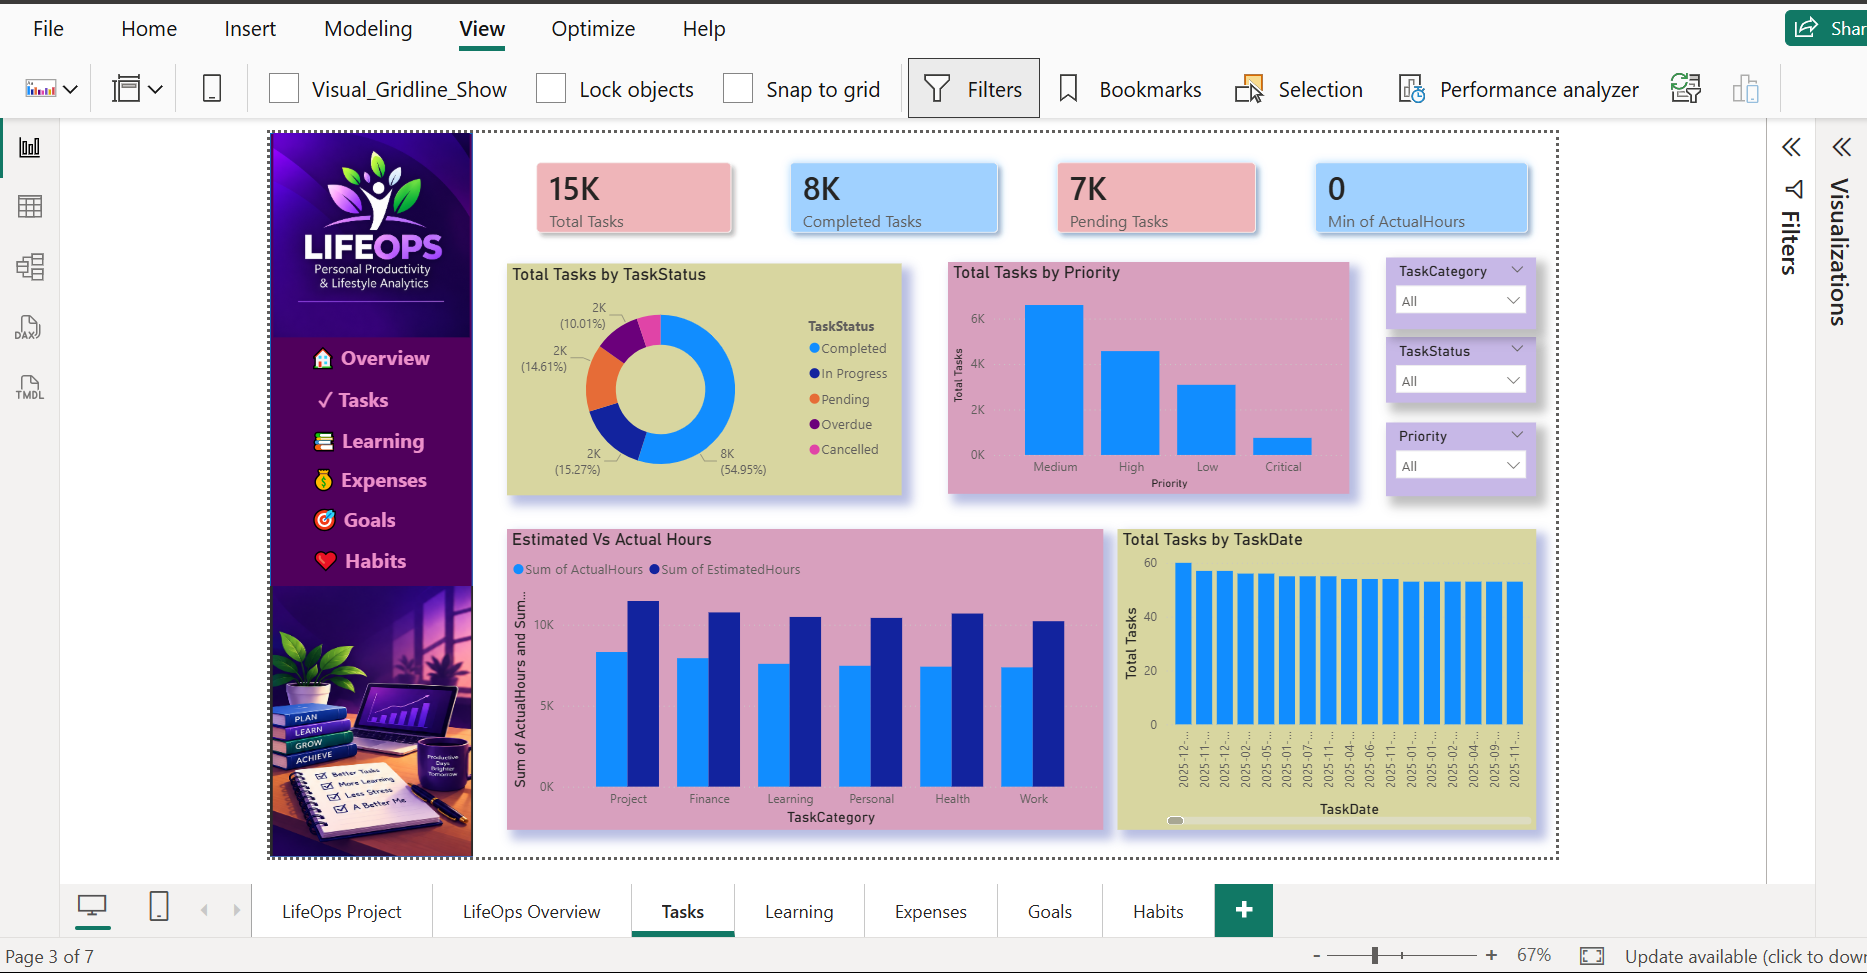

The page's visual inventory and layout, read from the dashboard file:
{"tool":"powerbi","page":{"name":"Tasks","canvas":[1280,720],"ordinal":2},"visuals":[{"type":"shape","box":[0,0,201.7,720],"z":0},{"type":"actionButton","box":[17.5,203.6,163.8,39.8],"z":1000},{"type":"actionButton","box":[0,245,165.4,39.8],"z":2000},{"type":"actionButton","box":[31.8,284.7,132,39.8],"z":3000},{"type":"actionButton","box":[31.8,324.5,135.2,39.8],"z":4000},{"type":"actionButton","box":[0,364.2,165.4,39.8],"z":5000},{"type":"cardVisual","fields":{"Data":["Tasks1.Total Tasks"]},"box":[235.4,0,252.9,128.8],"z":6000},{"type":"cardVisual","fields":{"Data":["Tasks1.Completed Tasks"]},"box":[488.3,0,265.6,128.8],"z":7000},{"type":"cardVisual","fields":{"Data":["Tasks1.Pending Tasks"]},"box":[753.9,0,256.1,128.8],"z":8000},{"type":"cardVisual","fields":{"Data":["Min(Tasks1.ActualHours)"]},"box":[1010,0,270.4,128.8],"z":9000},{"type":"donutChart","fields":{"Category":["Tasks1.TaskStatus"],"Y":["Tasks1.Total Tasks"]},"box":[235.4,130.4,392.9,230.6],"z":10000},{"type":"clusteredColumnChart","fields":{"Category":["Tasks1.Priority"],"Y":["Tasks1.Total Tasks"]},"box":[674.4,128.8,399.2,230.6],"z":11000},{"type":"clusteredColumnChart","title":"Estimated Vs Actual Hours","fields":{"Category":["Tasks1.TaskCategory"],"Y":["Sum(Tasks1.ActualHours)","Sum(Tasks1.EstimatedHours)"]},"box":[235.4,394.5,593.3,299],"z":12000},{"type":"lineClusteredColumnComboChart","fields":{"Category":["Tasks1.TaskDate"],"Y":["Tasks1.Total Tasks"]},"box":[843,394.5,416.7,299],"z":13000},{"type":"slicer","fields":{"Values":["Tasks1.Priority"]},"box":[1110.2,287.9,149.5,73.2],"z":14000},{"type":"slicer","fields":{"Values":["Tasks1.TaskStatus"]},"box":[1110.2,203.6,149.5,65.2],"z":15000},{"type":"slicer","fields":{"Values":["Tasks1.TaskCategory"]},"box":[1110.2,124.1,149.5,71.6],"z":16000},{"type":"actionButton","box":[31.8,404,114.5,39.8],"z":17000},{"type":"image","box":[0,0,202,203.6],"z":17001},{"type":"image","box":[0,451.2,202,268.8],"z":17002}]}

Visuals, with their boxes on the page's 1280x720 design canvas (x1, y1, x2, y2). These are canvas units, not pixel positions in the 1867x973 screenshot, which may show the page scaled, cropped or inside an application window:
shape: pyautogui.locateOnScreen(0, 0, 202, 720)
actionButton: pyautogui.locateOnScreen(18, 204, 181, 243)
actionButton: pyautogui.locateOnScreen(0, 245, 165, 285)
actionButton: pyautogui.locateOnScreen(32, 285, 164, 324)
actionButton: pyautogui.locateOnScreen(32, 324, 167, 364)
actionButton: pyautogui.locateOnScreen(0, 364, 165, 404)
cardVisual - Tasks1.Total Tasks: pyautogui.locateOnScreen(235, 0, 488, 129)
cardVisual - Tasks1.Completed Tasks: pyautogui.locateOnScreen(488, 0, 754, 129)
cardVisual - Tasks1.Pending Tasks: pyautogui.locateOnScreen(754, 0, 1010, 129)
cardVisual - Min(Tasks1.ActualHours): pyautogui.locateOnScreen(1010, 0, 1280, 129)
donutChart - Tasks1.TaskStatus x Tasks1.Total Tasks: pyautogui.locateOnScreen(235, 130, 628, 361)
clusteredColumnChart - Tasks1.Priority x Tasks1.Total Tasks: pyautogui.locateOnScreen(674, 129, 1074, 359)
"Estimated Vs Actual Hours" clusteredColumnChart: pyautogui.locateOnScreen(235, 394, 829, 694)
lineClusteredColumnComboChart - Tasks1.TaskDate x Tasks1.Total Tasks: pyautogui.locateOnScreen(843, 394, 1260, 694)
slicer - Tasks1.Priority: pyautogui.locateOnScreen(1110, 288, 1260, 361)
slicer - Tasks1.TaskStatus: pyautogui.locateOnScreen(1110, 204, 1260, 269)
slicer - Tasks1.TaskCategory: pyautogui.locateOnScreen(1110, 124, 1260, 196)
actionButton: pyautogui.locateOnScreen(32, 404, 146, 444)
image: pyautogui.locateOnScreen(0, 0, 202, 204)
image: pyautogui.locateOnScreen(0, 451, 202, 720)
